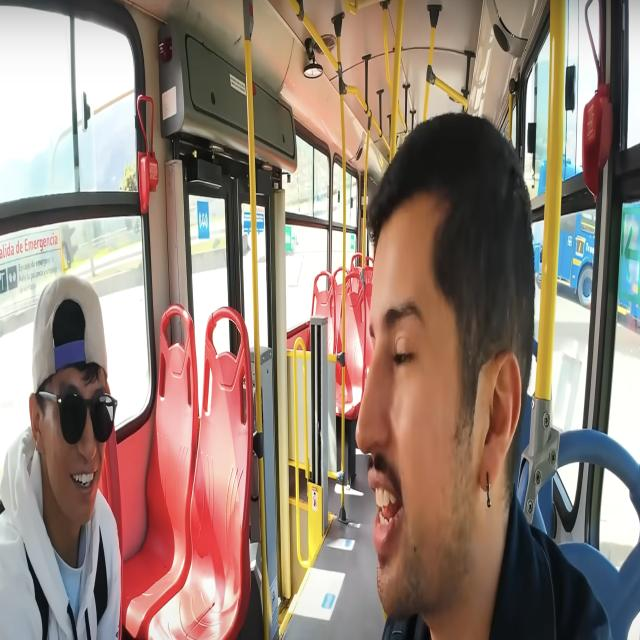persona: (355, 124, 530, 626), (26, 273, 119, 524)
